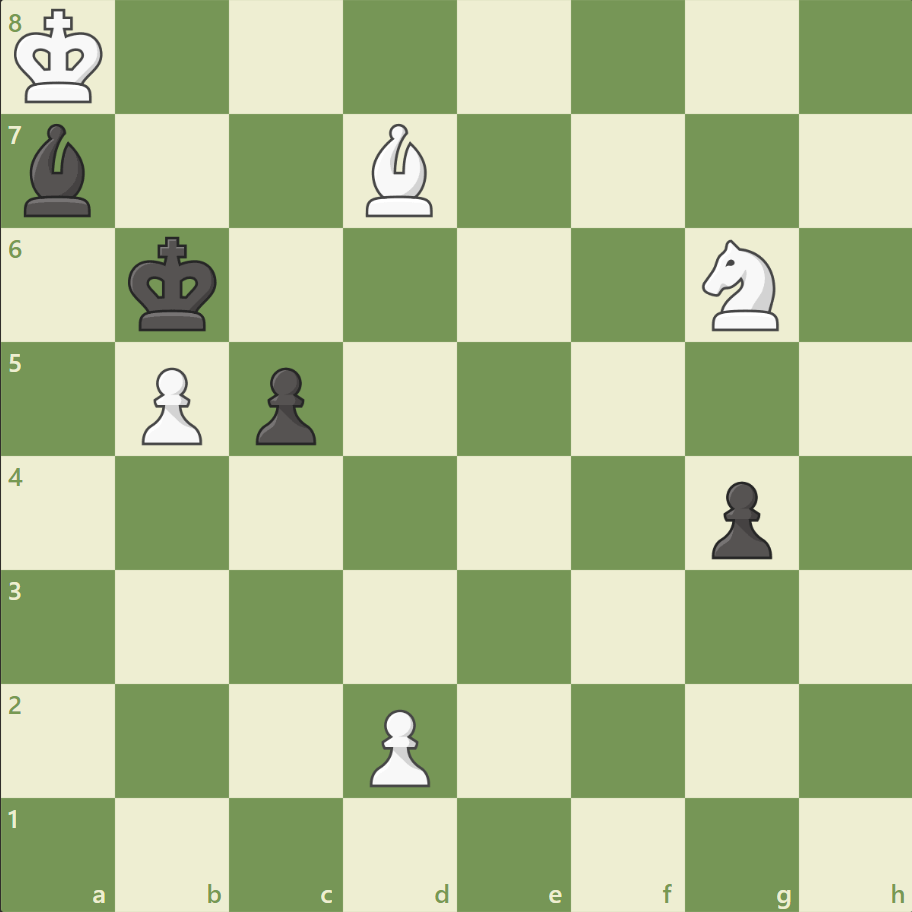B: (358, 120, 442, 222)
K: (11, 4, 111, 112)
N: (692, 234, 789, 337)
P: (133, 359, 208, 450), (361, 700, 435, 791)
b: (17, 120, 101, 222)
k: (124, 231, 224, 339)
p: (247, 359, 322, 450), (701, 473, 776, 564)
